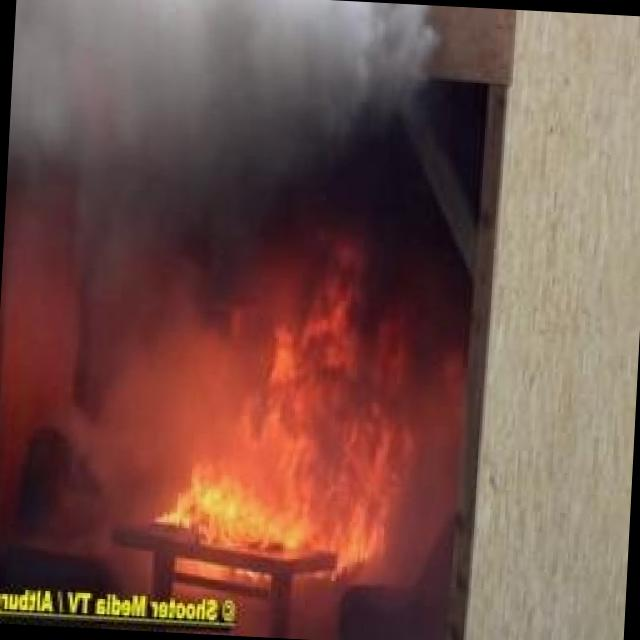fire: (68, 191, 481, 616)
